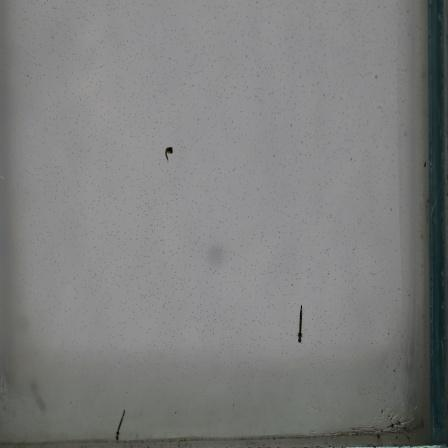Jentik-Nyamuk: (292, 301, 309, 345), (111, 405, 130, 442), (162, 141, 177, 163)
